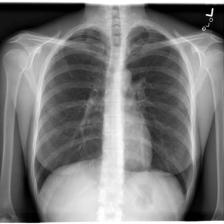normal: (33, 21, 197, 207)
